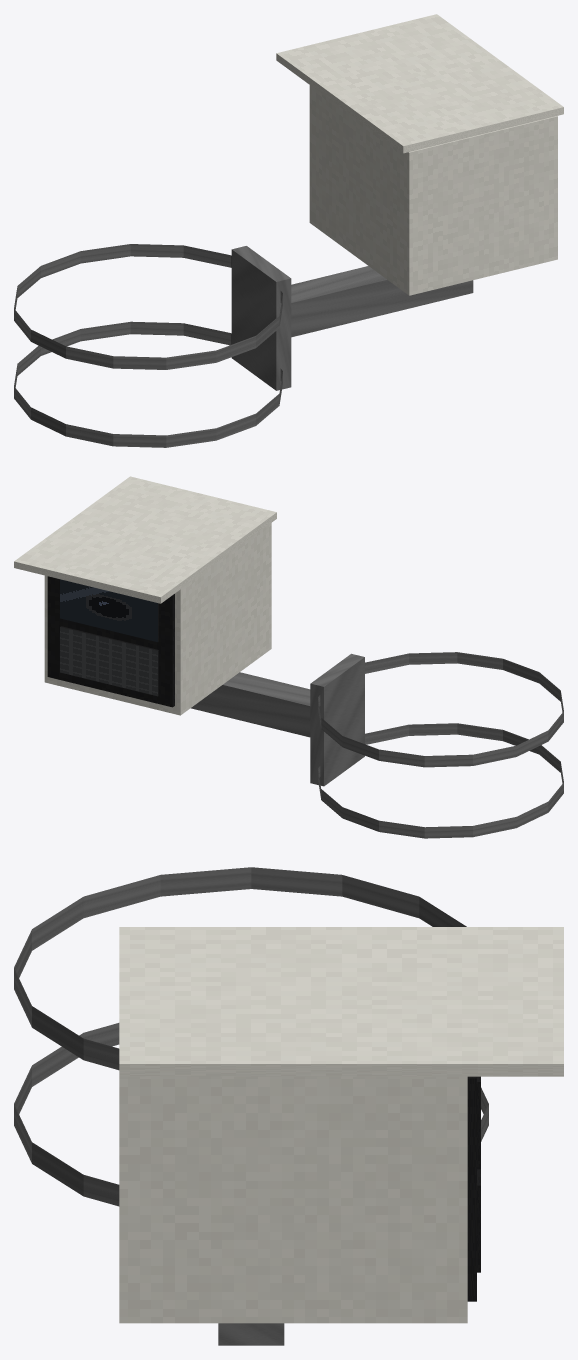
Rendered from speed_camera_side_left.obj.
The picture shows the model from 3 angles, top to bottom: view 1: azimuth 30°, elevation 25°; view 2: azimuth 150°, elevation 25°; view 3: azimuth 270°, elevation 25°; orthographic projection. The views are drawn at different scales.
Visible parts, largest first — view 1: speed_camera_side_left; view 2: speed_camera_side_left; view 3: speed_camera_side_left.
Boxes of the visible parts, x1=… form: speed_camera_side_left: x1=14, y1=14, x2=563, y2=447; speed_camera_side_left: x1=14, y1=476, x2=563, y2=838; speed_camera_side_left: x1=14, y1=867, x2=563, y2=1345.
Bounding box in the file's own units: 1.66 × 0.735 × 0.915.
